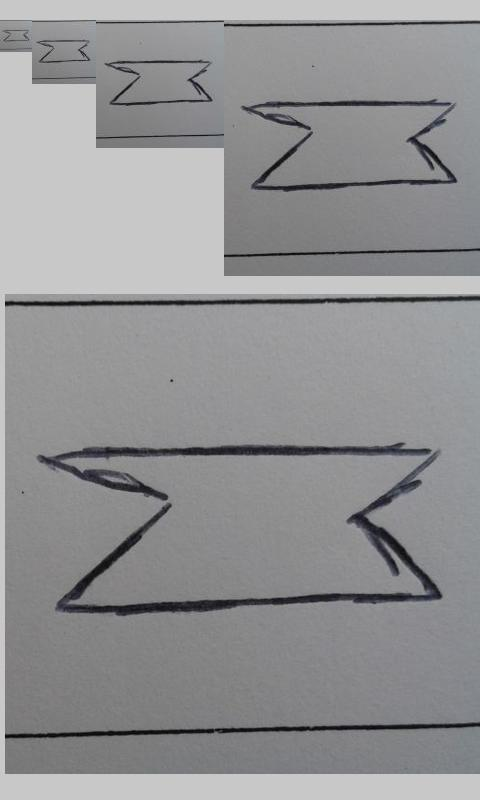edit_text: (40, 444, 445, 613), (243, 101, 457, 191), (106, 60, 212, 106), (37, 40, 90, 62), (3, 29, 30, 41)
